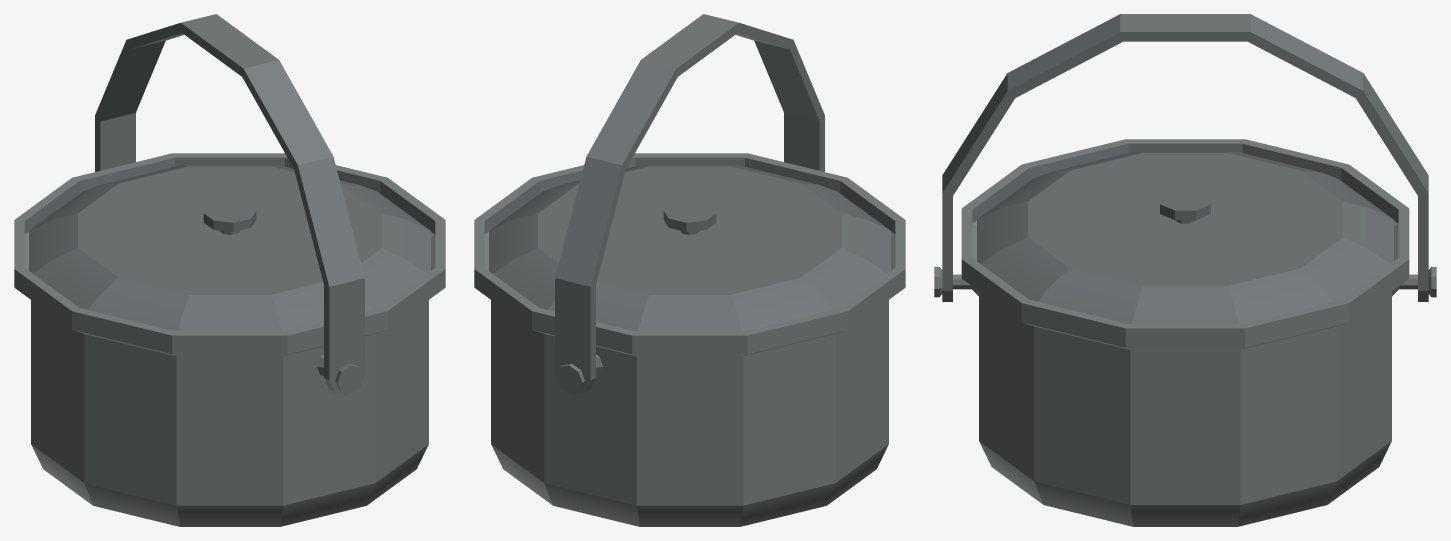
Rendered from Pot_01.fbx.
3 views of the same model, side by side, from view 1: azimuth 30°, elevation 25°; view 2: azimuth 150°, elevation 25°; view 3: azimuth 270°, elevation 25° (orthographic). The views are drawn at different scales.
Parts seen in each view (by area): view 1: Pot_01_LOD0; view 2: Pot_01_LOD0; view 3: Pot_01_LOD0.
Part boxes in pixels (x1=…): Pot_01_LOD0: x1=14, y1=14, x2=445, y2=526; Pot_01_LOD0: x1=474, y1=14, x2=905, y2=526; Pot_01_LOD0: x1=934, y1=14, x2=1436, y2=526.
Size of what is drawn, in the model's own units: 0.419 by 0.4475 by 0.47.
